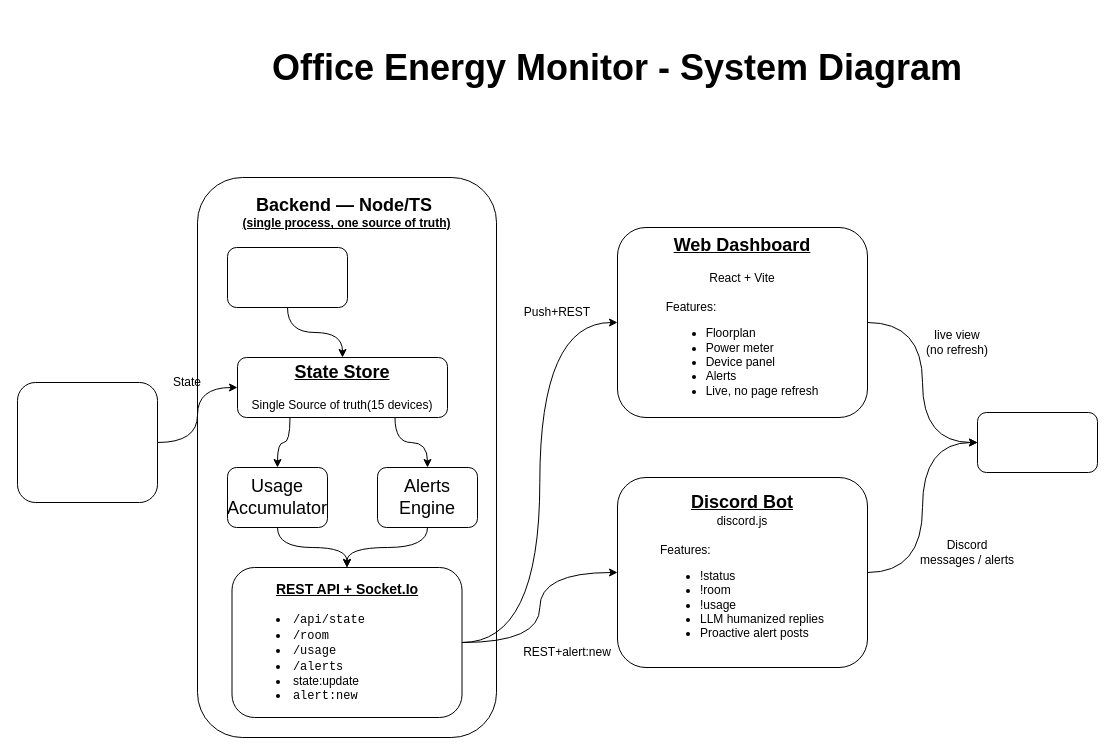
Some shapes in this 1115 by 755 pixel diagram are drawn without their labels. The centre of each missing label's shape, as x and y in pixels:
"Boss & Team" goes at (x=1037, y=442).
"Simulated Device Layer 15 devices · ESP32 concept (Wokwi)" goes at (x=87, y=442).
"Simulation Engine" goes at (x=287, y=277).
